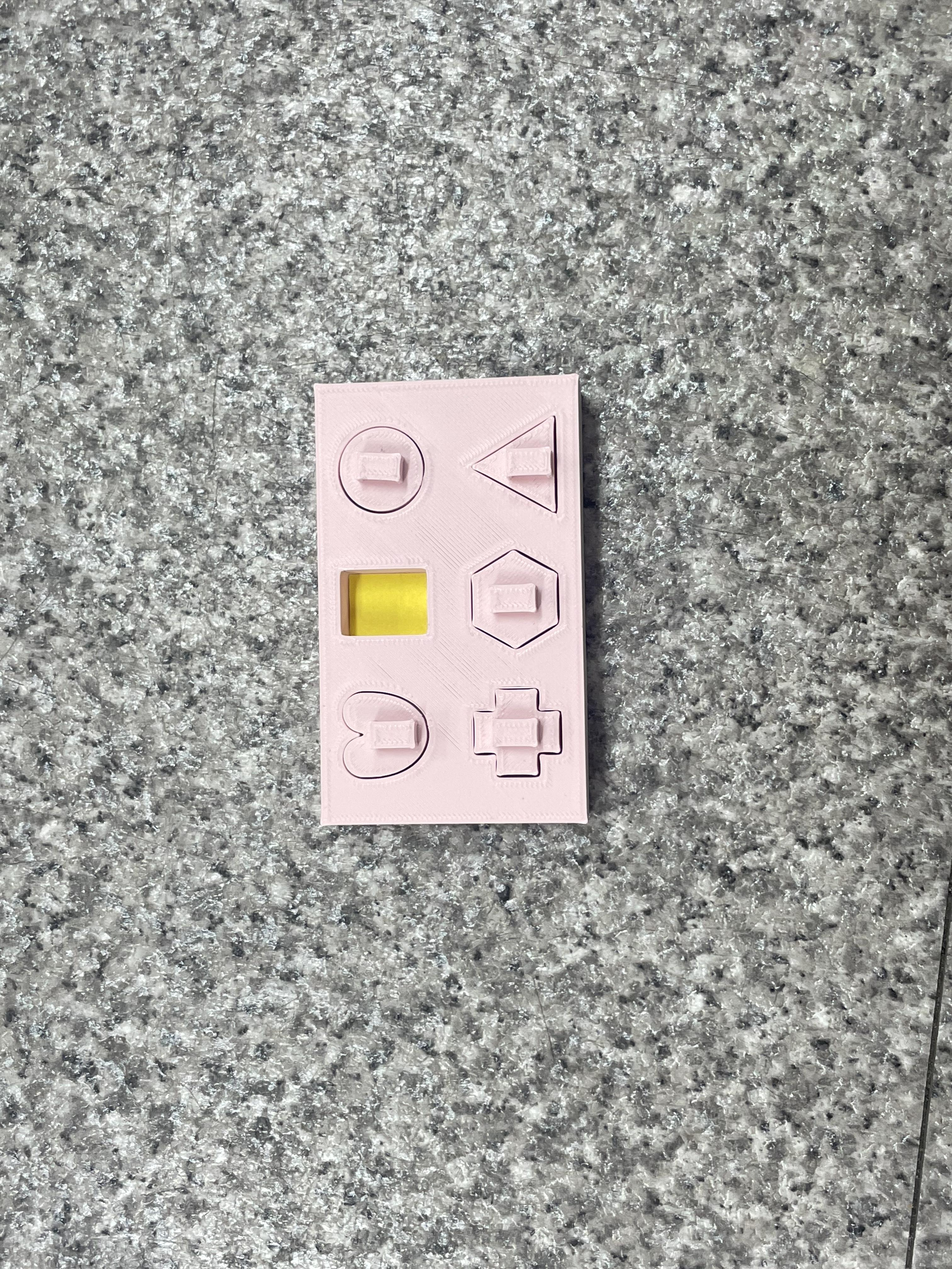unsolved: (305, 359, 614, 842)
